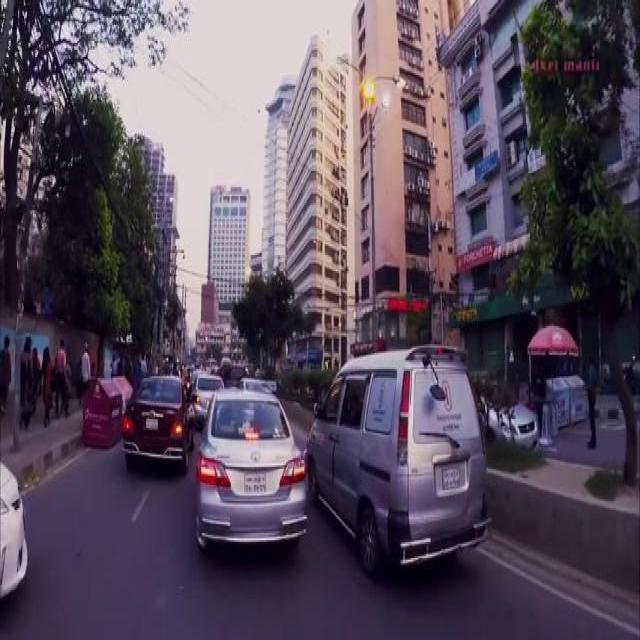car: (194, 385, 306, 544), (121, 372, 195, 464), (476, 384, 538, 448), (192, 371, 224, 422)
minivan: (304, 339, 490, 572)
